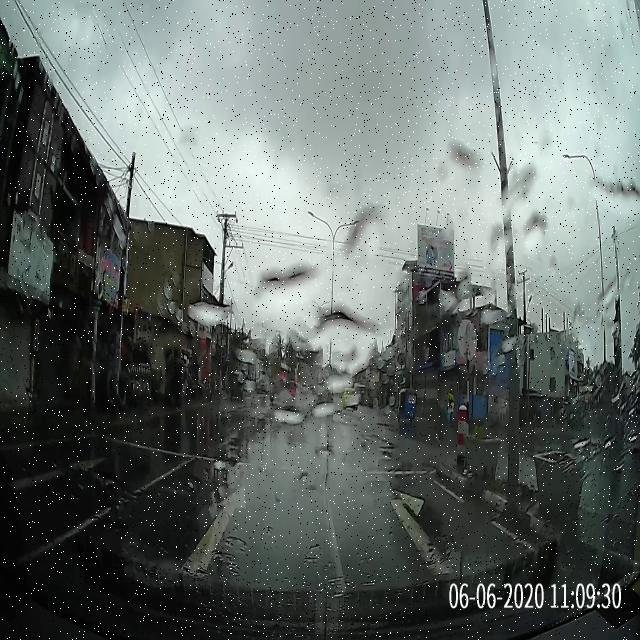forward: (41, 460, 343, 588)
right: (317, 474, 539, 580)
